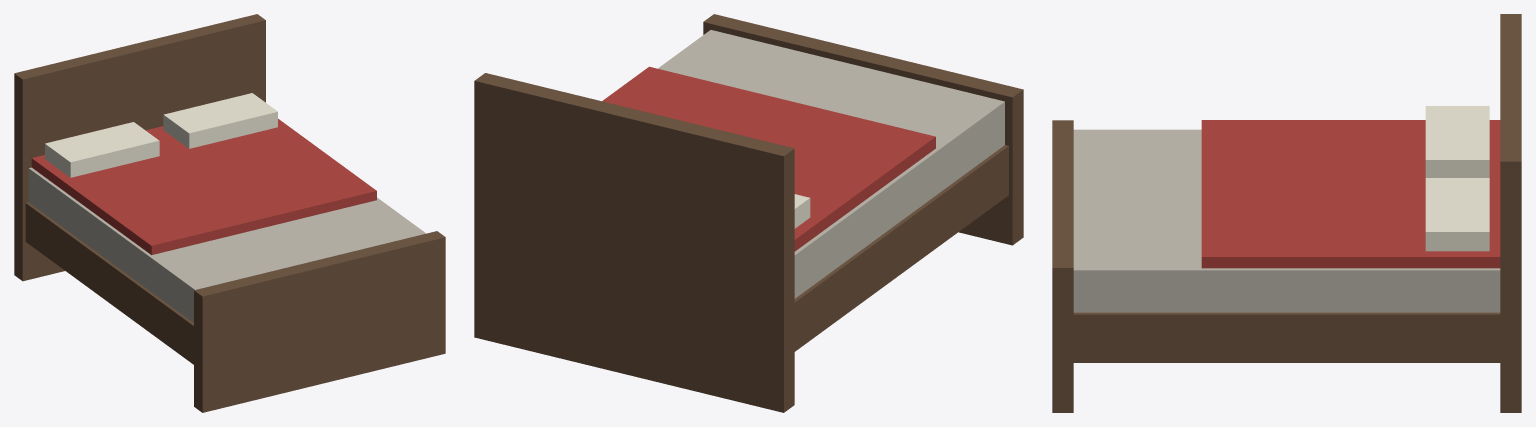
File: bed_old.glb
The picture shows the model from 3 angles, left to right: view 1: azimuth 30°, elevation 25°; view 2: azimuth 150°, elevation 25°; view 3: azimuth 270°, elevation 25°; orthographic projection. The views are drawn at different scales.
Parts seen in each view (by area): view 1: bed_old; view 2: bed_old; view 3: bed_old.
Part boxes in pixels (x1,y1,x2,y2): bed_old: (14, 14, 445, 412); bed_old: (474, 14, 1023, 412); bed_old: (1052, 14, 1521, 412).
Bounding box in the file's own units: 1.64 × 1.3 × 2.2.
